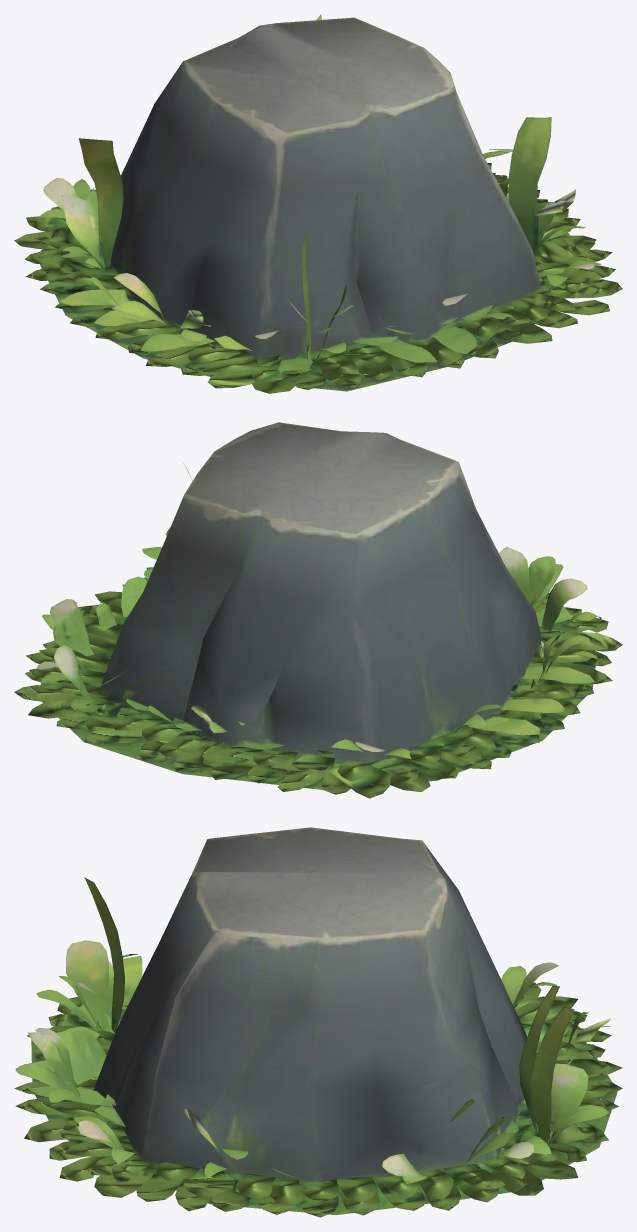
Rendered from rock.glb.
3 renders of one model, top to bottom at view 1: azimuth 30°, elevation 25°; view 2: azimuth 150°, elevation 25°; view 3: azimuth 270°, elevation 25°, orthographic. The views are drawn at different scales.
Parts seen in each view (by area): view 1: stone; view 2: stone; view 3: stone.
Part boxes in pixels (x1=…): stone: x1=14, y1=14, x2=622, y2=393; stone: x1=14, y1=422, x2=622, y2=798; stone: x1=14, y1=827, x2=622, y2=1217.
Bounding box in the file's own units: 0.6012 × 0.24 × 0.5975.
Materials: 1 (1 with a texture image).
